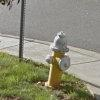Hydrant: (39, 23, 73, 90)
